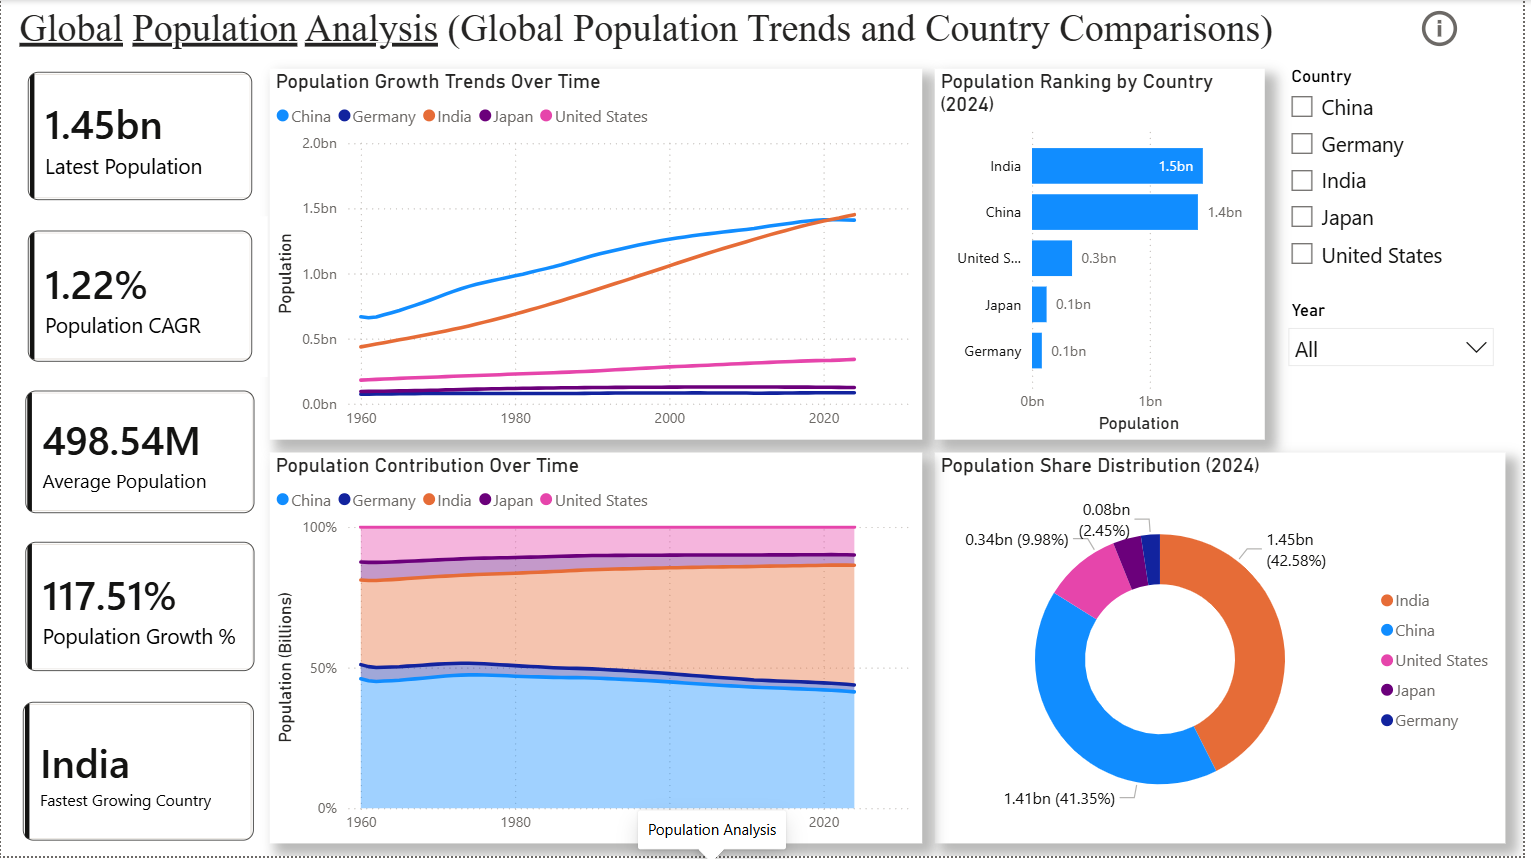

Layout of this report page (visuals, bound fields, positions):
{"tool":"powerbi","page":{"name":"Population Analysis","canvas":[1280,720],"ordinal":3},"visuals":[{"type":"textbox","box":[10.2,0,1133.7,49.7],"z":0},{"type":"slicer","fields":{"Values":["economic_analytics economic_data.country"]},"box":[1072.6,50.2,193,197.7],"z":1000},{"type":"slicer","fields":{"Values":["economic_analytics economic_data.year"]},"box":[1072.6,246.7,193,91.9],"z":2000},{"type":"cardVisual","fields":{"Data":["economic_analytics economic_data.Latest Population"]},"box":[10.5,48.8,214,132.6],"z":3000},{"type":"cardVisual","fields":{"Data":["economic_analytics economic_data.Average Population"]},"box":[8.1,316.3,217.4,127.9],"z":4000},{"type":"lineChart","title":"Population Growth Trends Over Time","fields":{"Category":["economic_analytics economic_data.year"],"Series":["economic_analytics economic_data.country"],"Y":["Sum(economic_analytics economic_data.value)"]},"box":[225.6,58.1,548.8,311.6],"z":5000},{"type":"clusteredBarChart","title":"Population Ranking by Country (2024)","fields":{"Category":["economic_analytics economic_data.country"],"Y":["Sum(economic_analytics economic_data.value)"]},"box":[784.9,58.1,277.9,311.6],"z":6000},{"type":"donutChart","title":"Population Share Distribution (2024)","fields":{"Category":["economic_analytics economic_data.country"],"Y":["Sum(economic_analytics economic_data.value)"]},"box":[784.9,380.2,480.2,329.1],"z":7000},{"type":"cardVisual","fields":{"Data":["economic_analytics economic_data.Population CAGR"]},"box":[10.5,181.4,214,134.9],"z":8000},{"type":"cardVisual","fields":{"Data":["economic_analytics economic_data.Population Growth %"]},"box":[8.1,444.2,217.4,133.7],"z":9000},{"type":"cardVisual","fields":{"Data":["economic_analytics economic_data.Fastest Growing Country"]},"box":[5.8,577.9,218.6,141.9],"z":10000},{"type":"hundredPercentStackedAreaChart","title":"Population Contribution Over Time","fields":{"Category":["economic_analytics economic_data.year"],"Series":["economic_analytics economic_data.country"],"Y":["economic_analytics economic_data.Population (Billions)"]},"box":[225.6,380.2,548.8,329.1],"z":11000},{"type":"actionButton","box":[1190.7,4.7,43,39.5],"z":12000}]}

Visuals, with their boxes in screenshot pixels (x1, y1, x2, y2), scaled from the page's 1280x720 canvas onto the 1531x859 screenshot:
textbox: locate(12, 0, 1368, 59)
slicer - economic_analytics economic_data.country: locate(1283, 60, 1514, 296)
slicer - economic_analytics economic_data.year: locate(1283, 294, 1514, 404)
cardVisual - economic_analytics economic_data.Latest Population: locate(13, 58, 269, 216)
cardVisual - economic_analytics economic_data.Average Population: locate(10, 377, 270, 530)
"Population Growth Trends Over Time" lineChart: locate(270, 69, 926, 441)
"Population Ranking by Country (2024)" clusteredBarChart: locate(939, 69, 1271, 441)
"Population Share Distribution (2024)" donutChart: locate(939, 454, 1513, 846)
cardVisual - economic_analytics economic_data.Population CAGR: locate(13, 216, 269, 377)
cardVisual - economic_analytics economic_data.Population Growth %: locate(10, 530, 270, 689)
cardVisual - economic_analytics economic_data.Fastest Growing Country: locate(7, 689, 268, 858)
"Population Contribution Over Time" hundredPercentStackedAreaChart: locate(270, 454, 926, 846)
actionButton: locate(1424, 6, 1476, 53)
